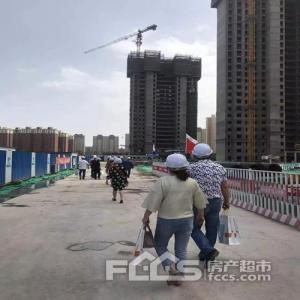white: (166, 154, 190, 178), (192, 144, 216, 164), (115, 157, 124, 166)
